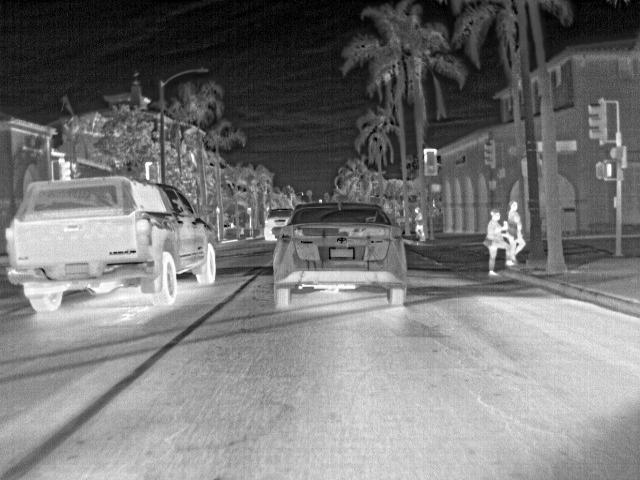car: (5, 174, 219, 314), (272, 204, 409, 308), (263, 207, 292, 241)
person: (483, 206, 507, 278), (507, 198, 527, 266), (414, 204, 427, 245)
